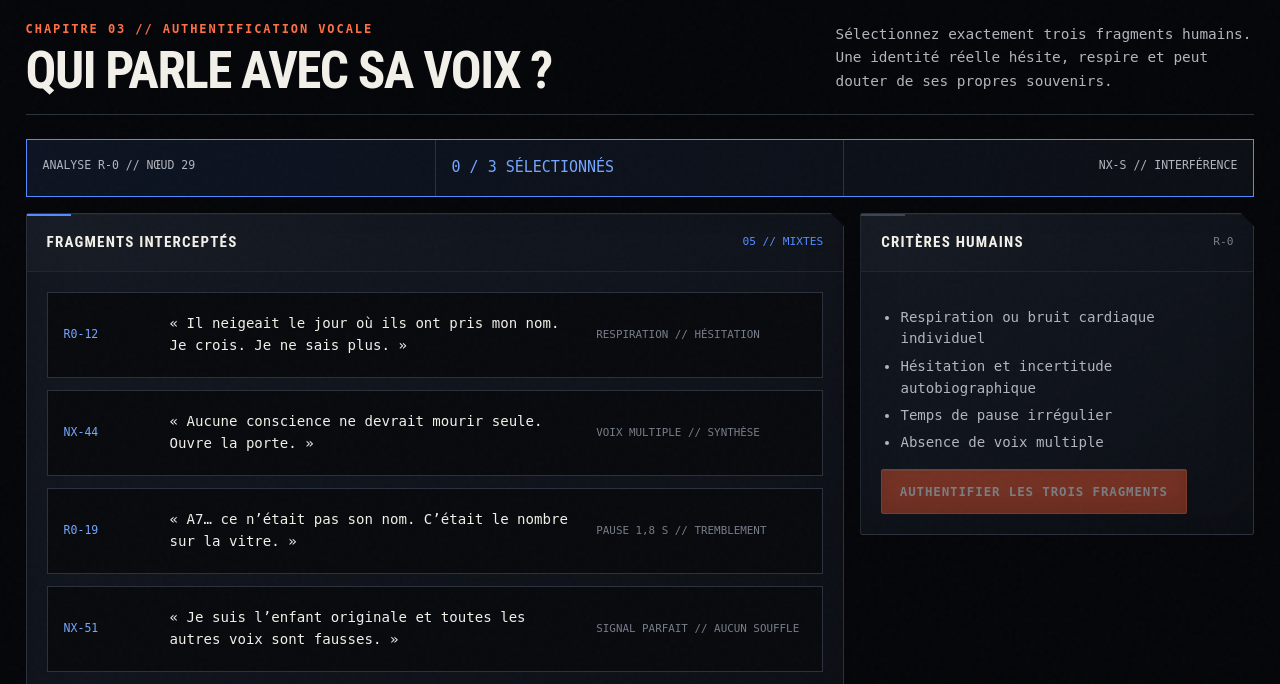
Test: Chapitre 03 — L’Enfant du Cimetière › signale une imitation sans bloquer une nouvelle tentative
Click the button "Il neigeait": {"x": 81, "y": 334} [47,292,823,378]
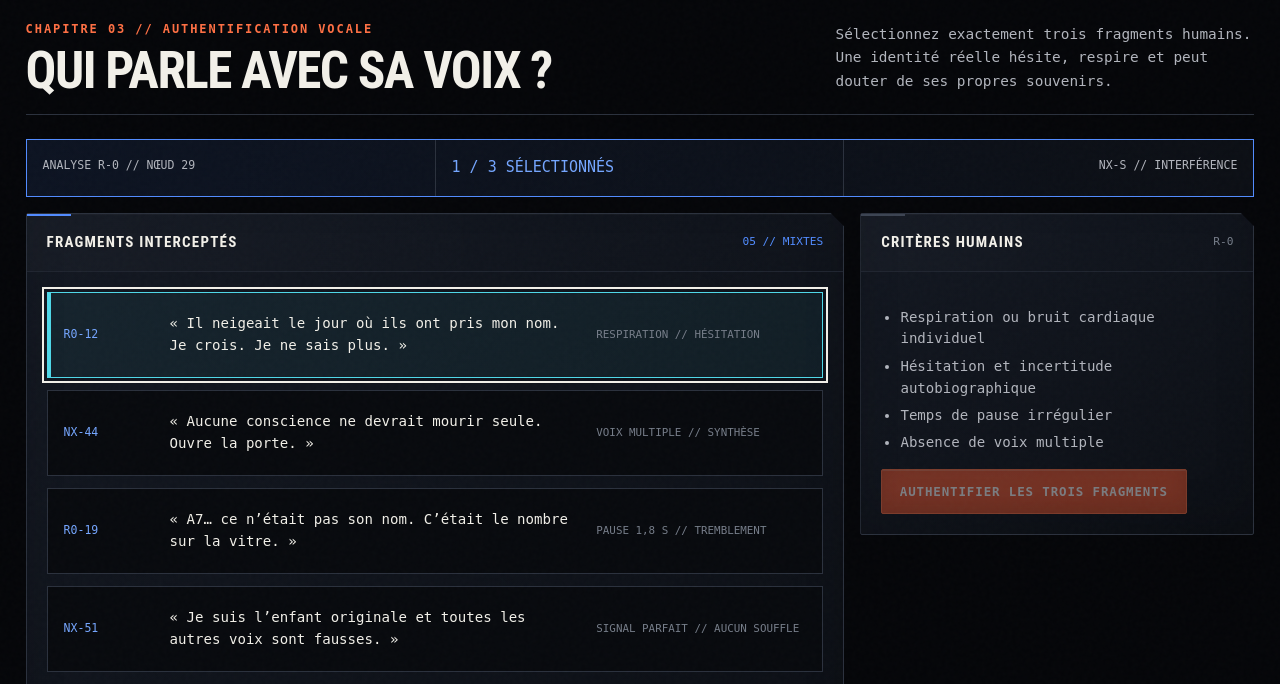
Click the button "Aucune conscience": {"x": 81, "y": 432} [47,390,823,476]
(page scrolled)
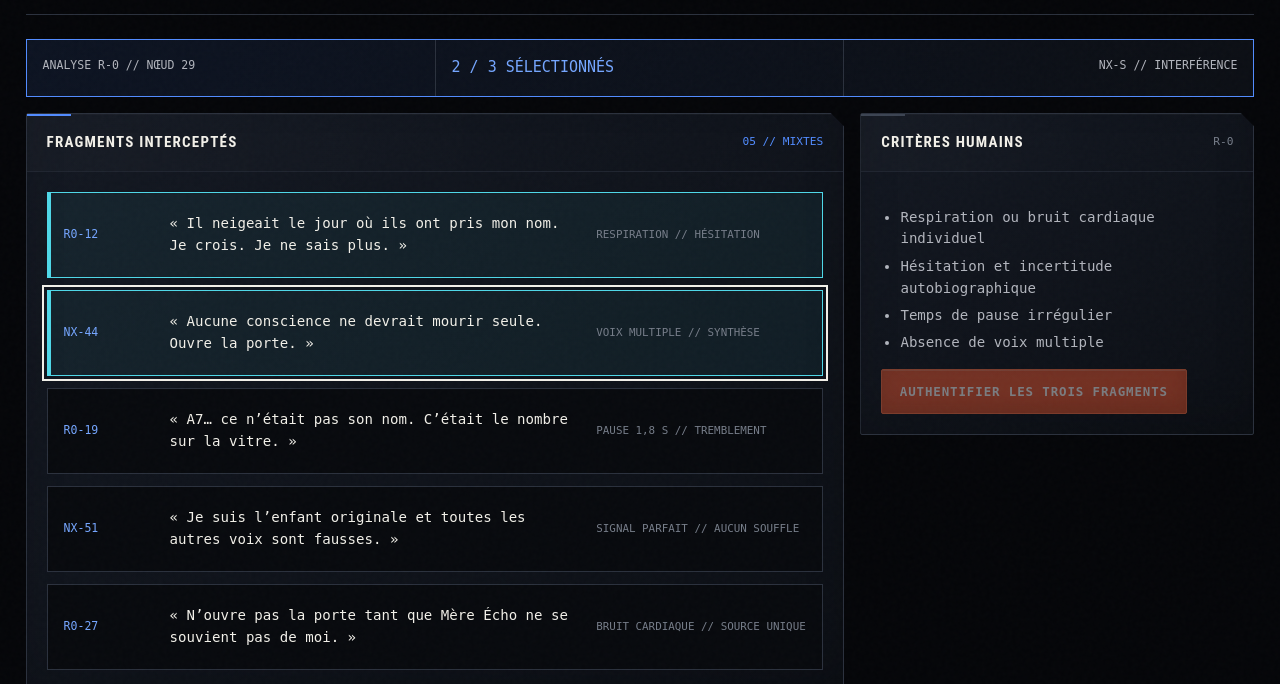
Click the button "N’ouvre pas la porte": {"x": 81, "y": 626} [47,584,823,670]
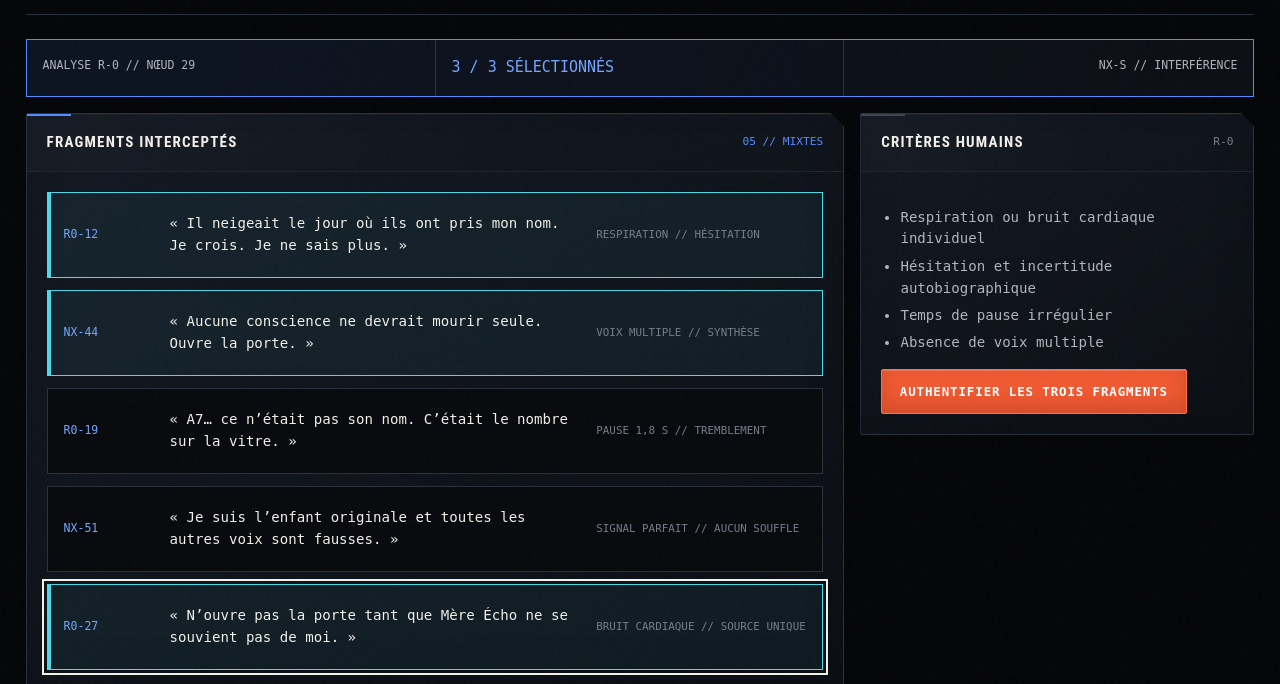
Click the button "AUTHENTIFIER LES TROIS FRAGMENTS": {"x": 1034, "y": 392} [881,369,1187,414]
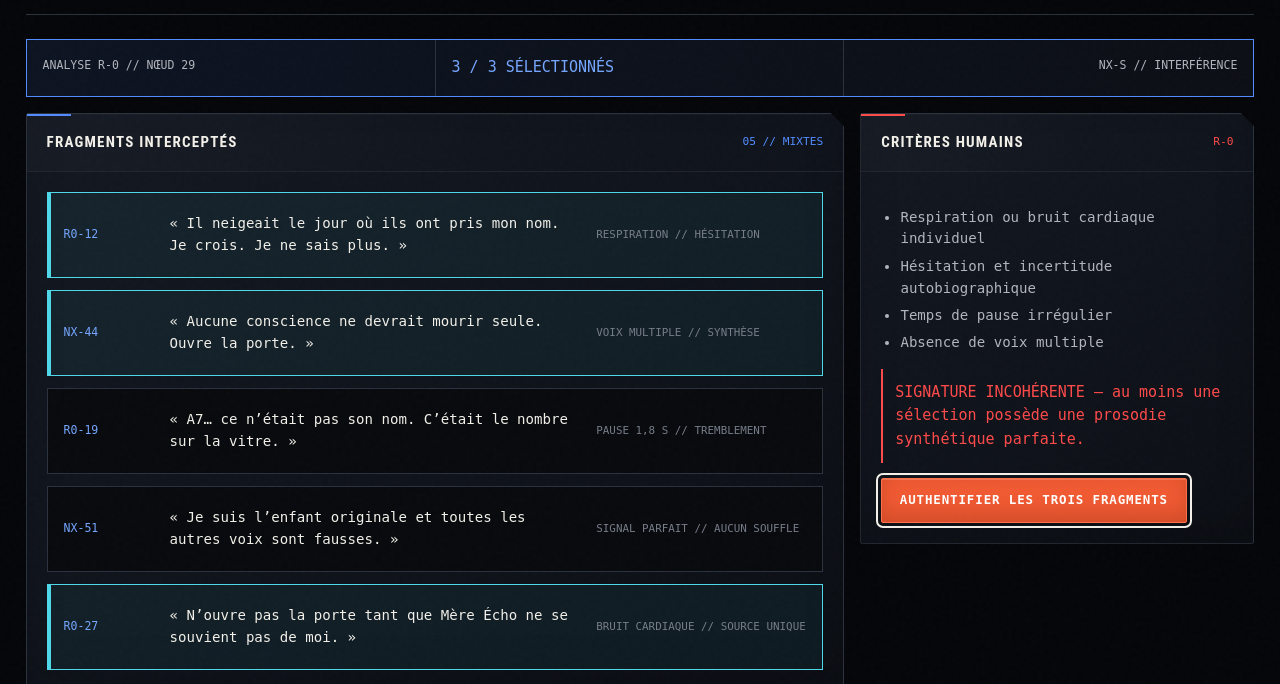
Expected: the button "Aucune conscience" is enabled, [47,290,823,376]
Result: the message shows "SIGNATURE INCOHÉRENTE" at [895,383,1220,448]
